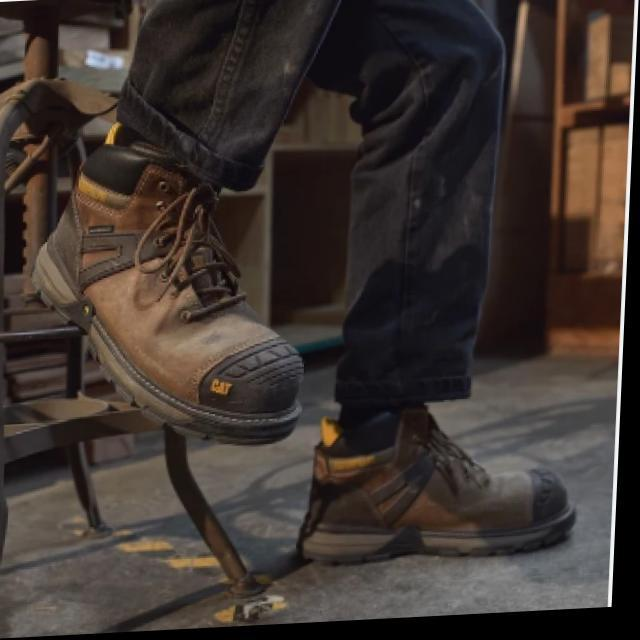boots: (11, 87, 600, 594)
